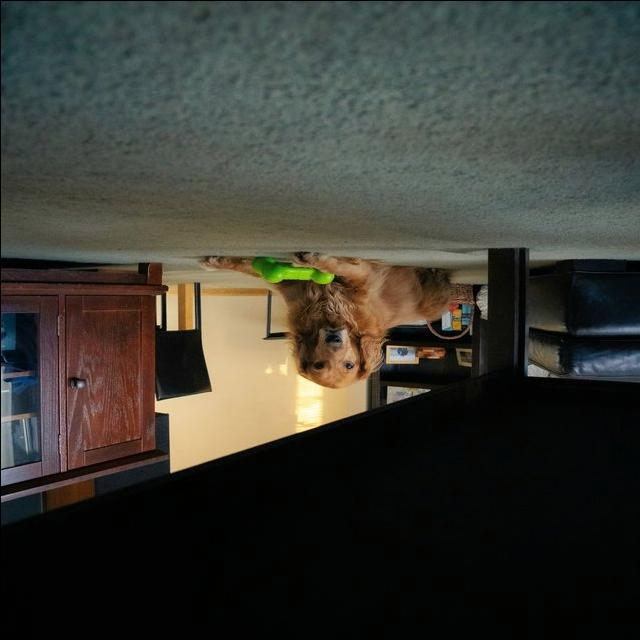retriever: (197, 251, 453, 390)
